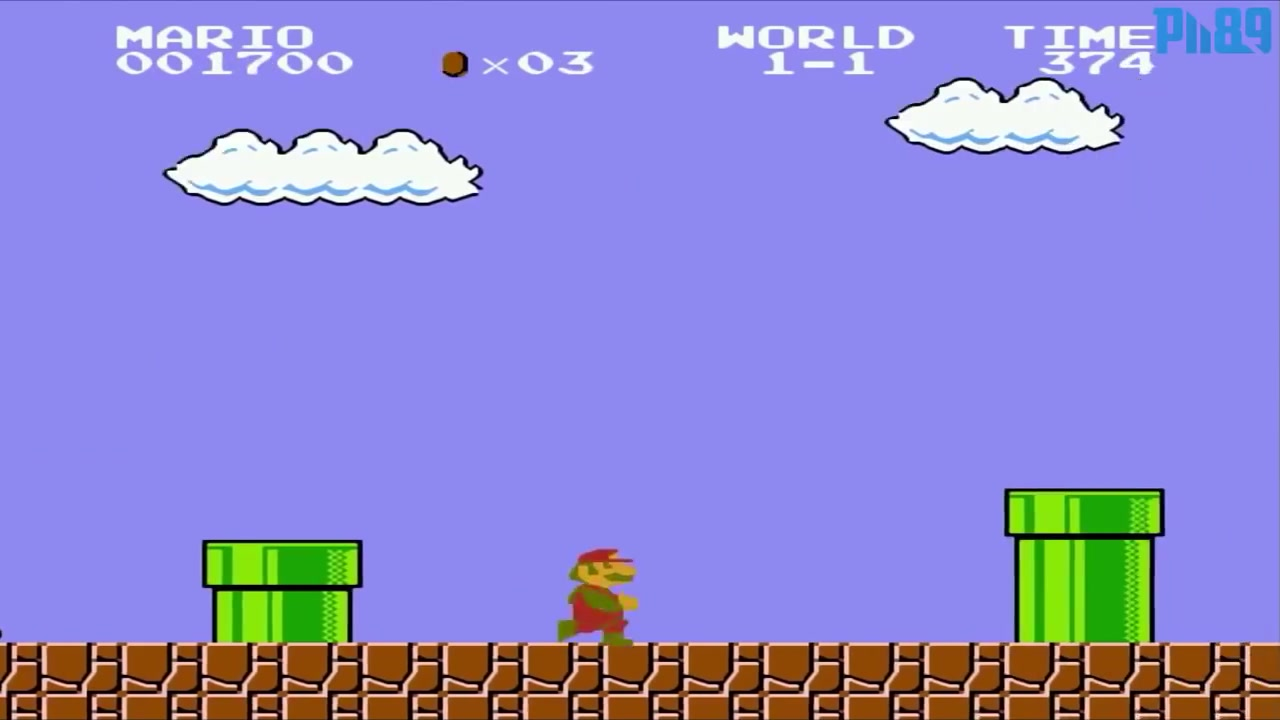mario: (546, 538, 645, 647)
